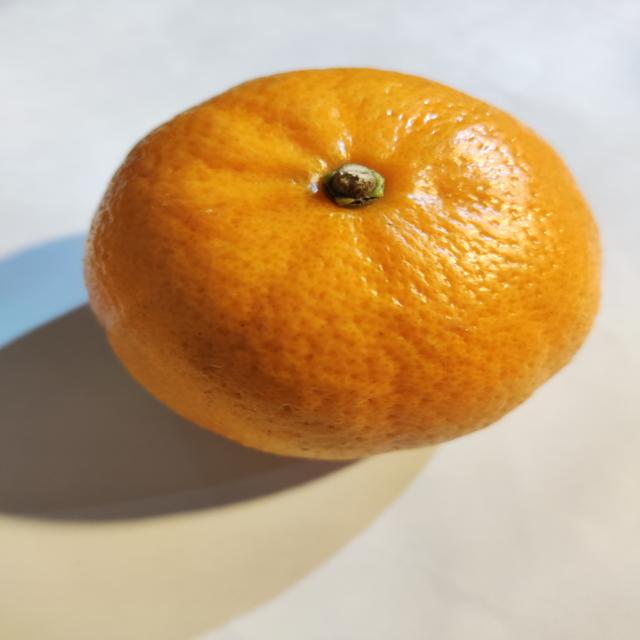orange: (86, 69, 599, 458)
